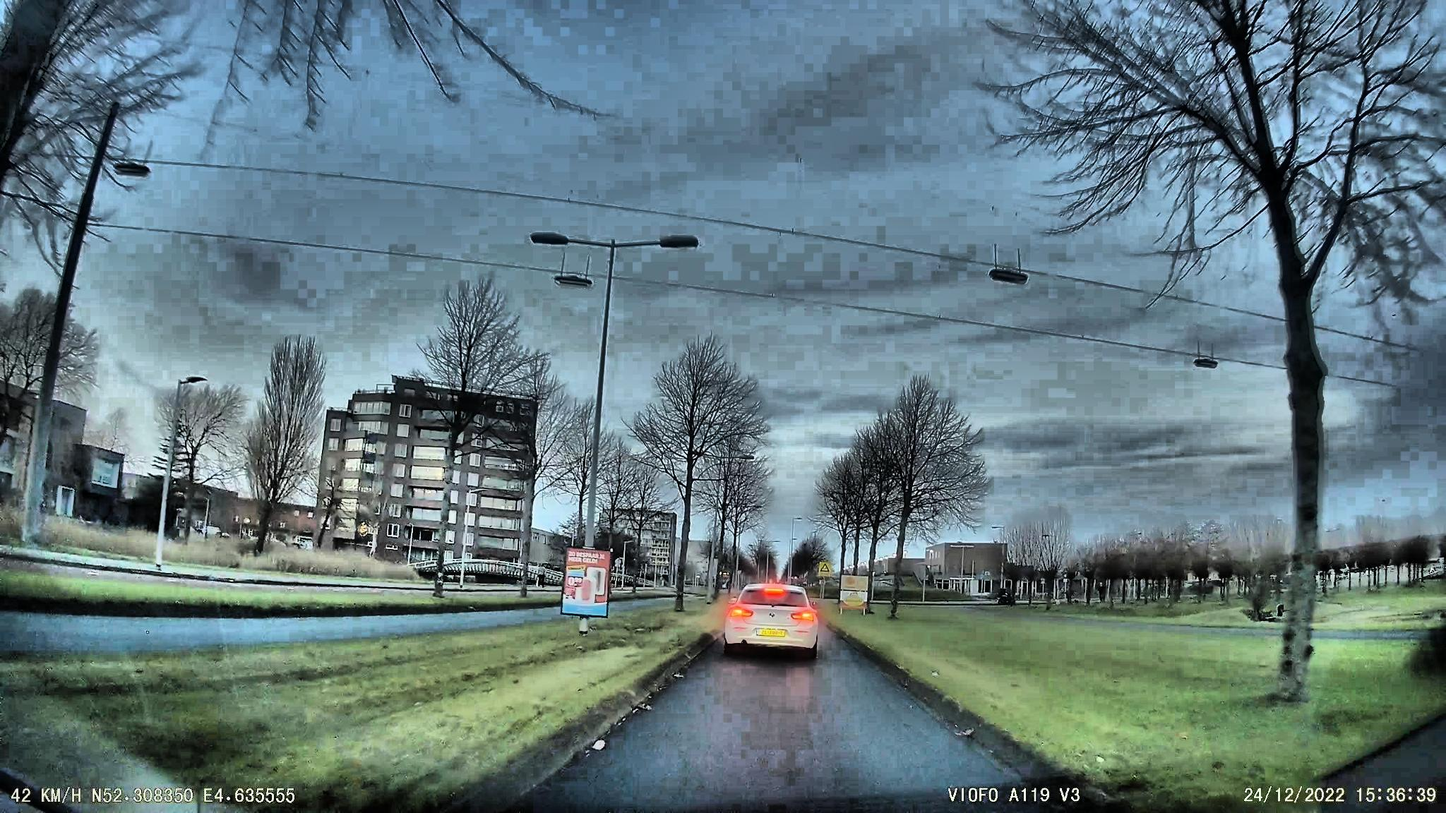Roads: (503, 622, 1113, 813)
